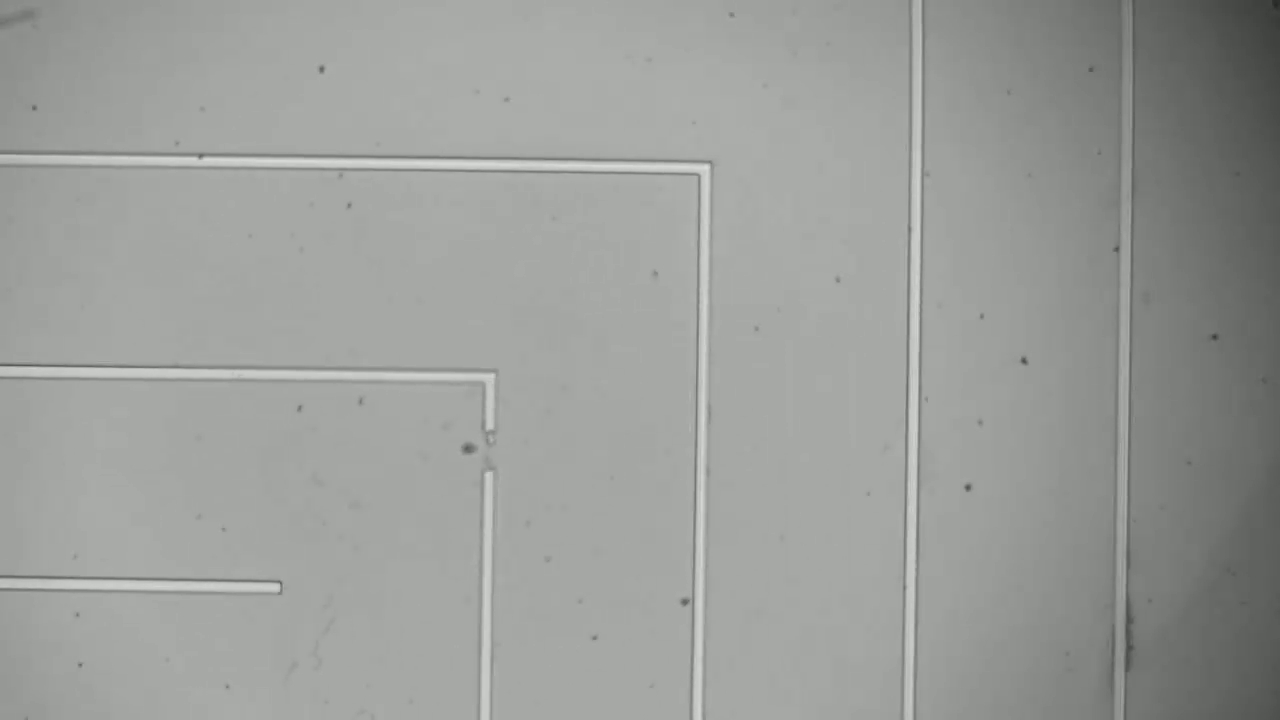open: (471, 409, 510, 492)
